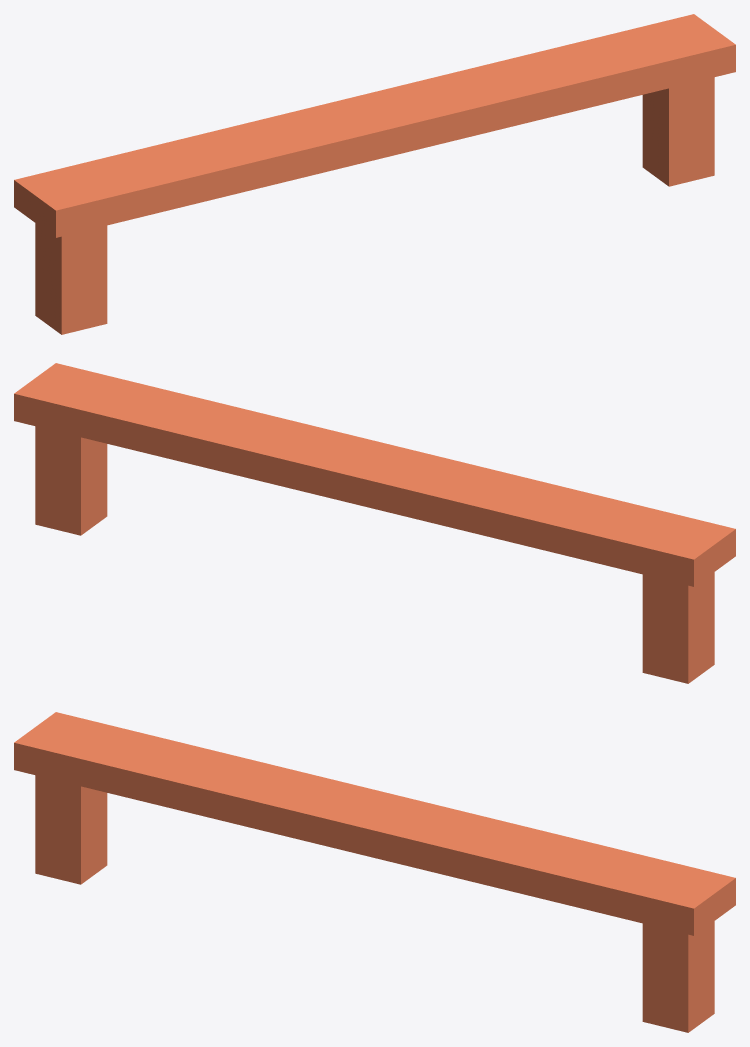
Rendered from fence_low.obj.
3 renders of one model, top to bottom at view 1: azimuth 30°, elevation 25°; view 2: azimuth 150°, elevation 25°; view 3: azimuth 330°, elevation 25°, orthographic.
Bounding box in the file's own units: 1.04 × 0.195 × 0.1112.
